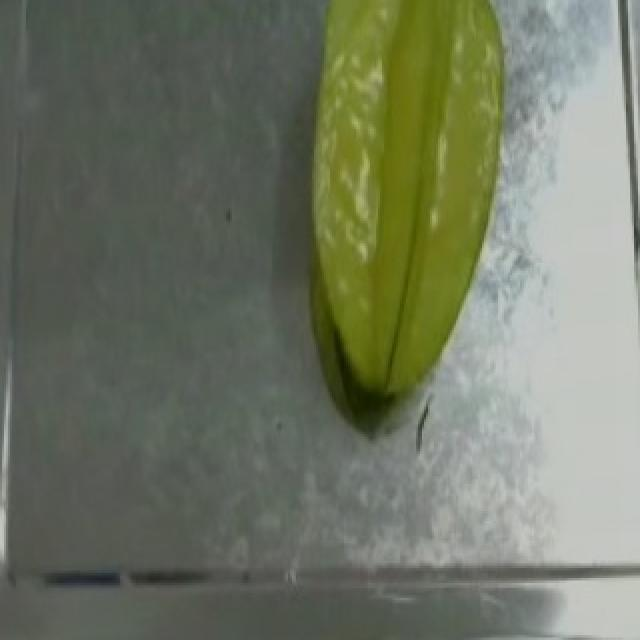fruit: (280, 3, 530, 357)
